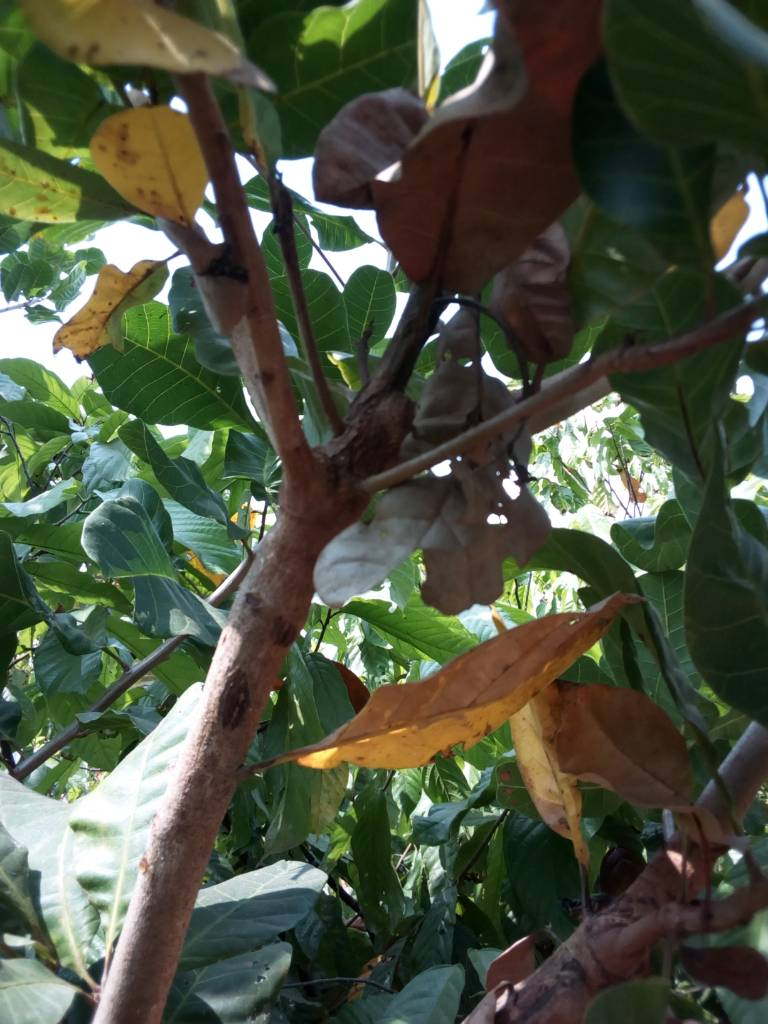Bactériose: (286, 605, 618, 764), (54, 258, 161, 358), (241, 89, 300, 247), (544, 783, 600, 928)
